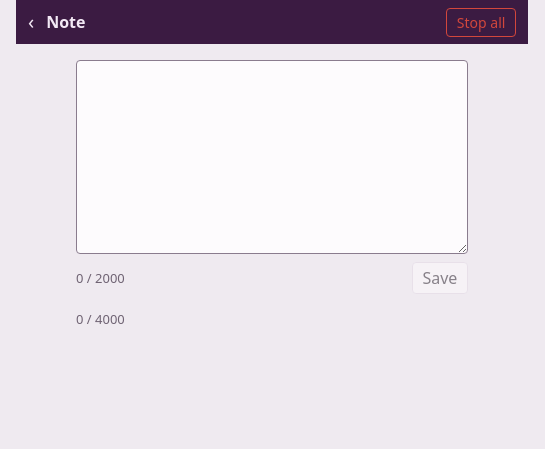
it: a refused save shows the server’s words and keeps the typing
Type "mine" into the text box named "Note" at (272, 157), box [76,60,468,254]
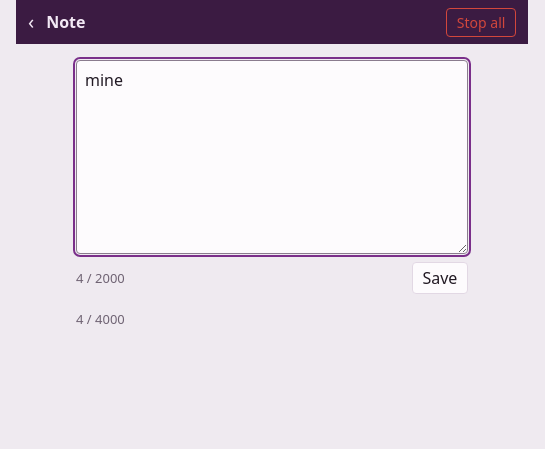
Click the button "Save" at (440, 278), box [412,262,468,294]
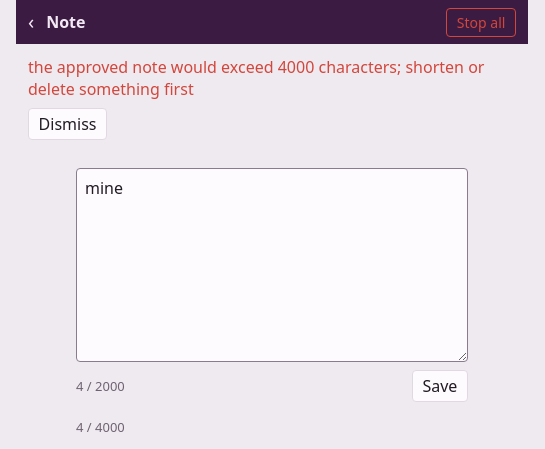
expect the message shows "would exceed 4000 characters": met, box [28,56,484,100]
